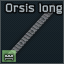Orsis T-5000M long length rail: (0, 0, 64, 64)
